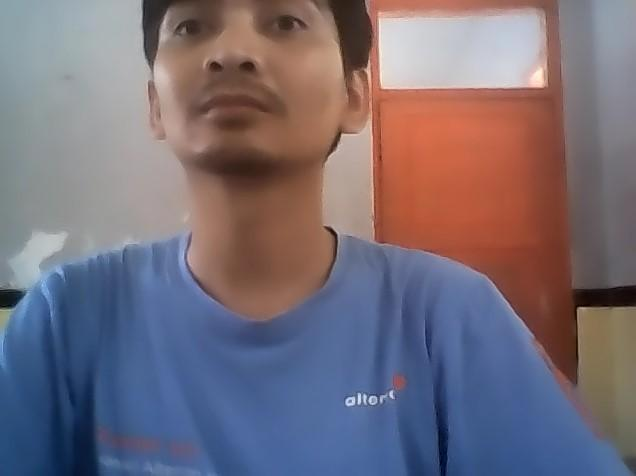cheating: (5, 2, 636, 476)
